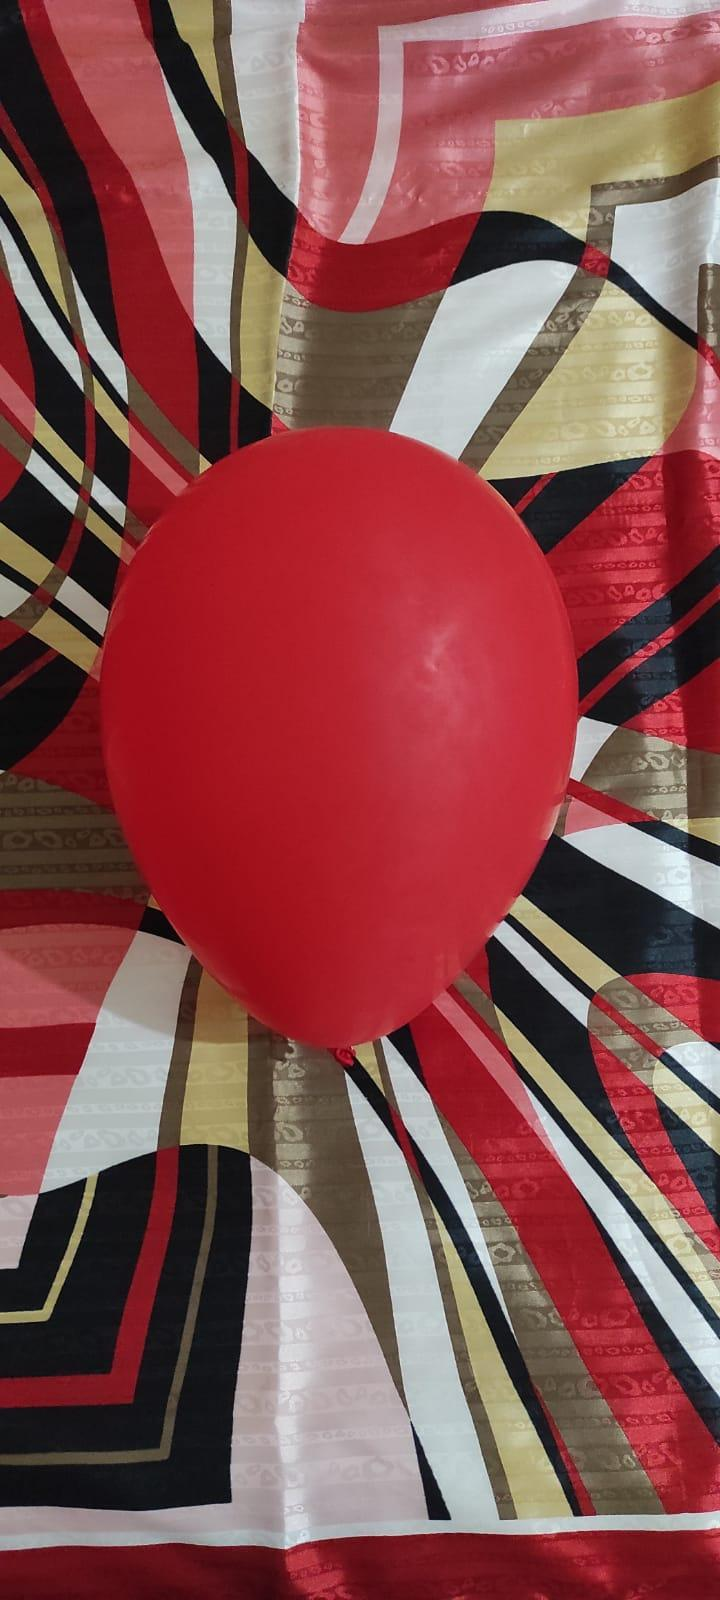red: (91, 417, 584, 1052)
